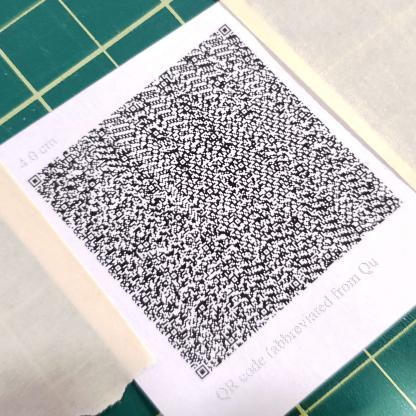qr: (25, 20, 409, 379)
